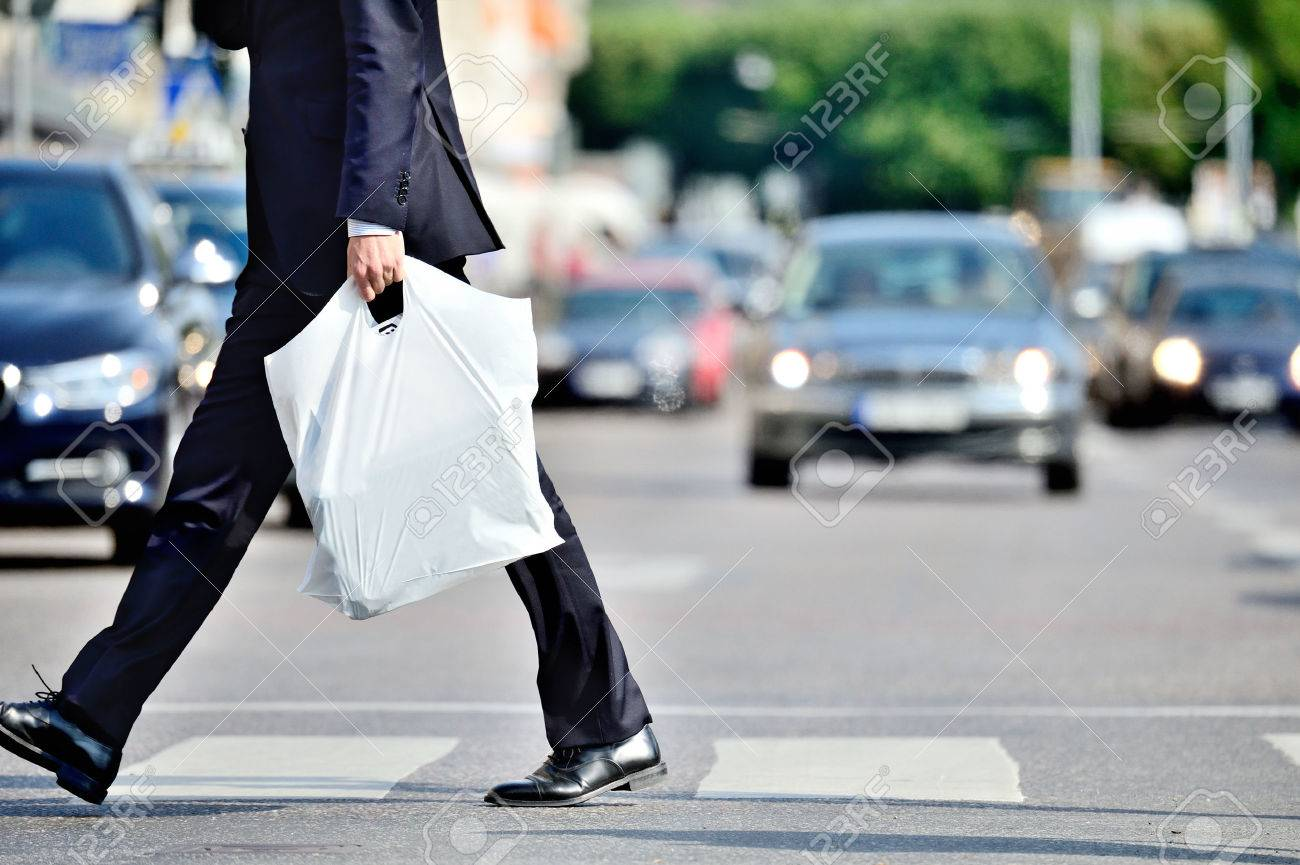pedestrian: (1, 2, 688, 822)
